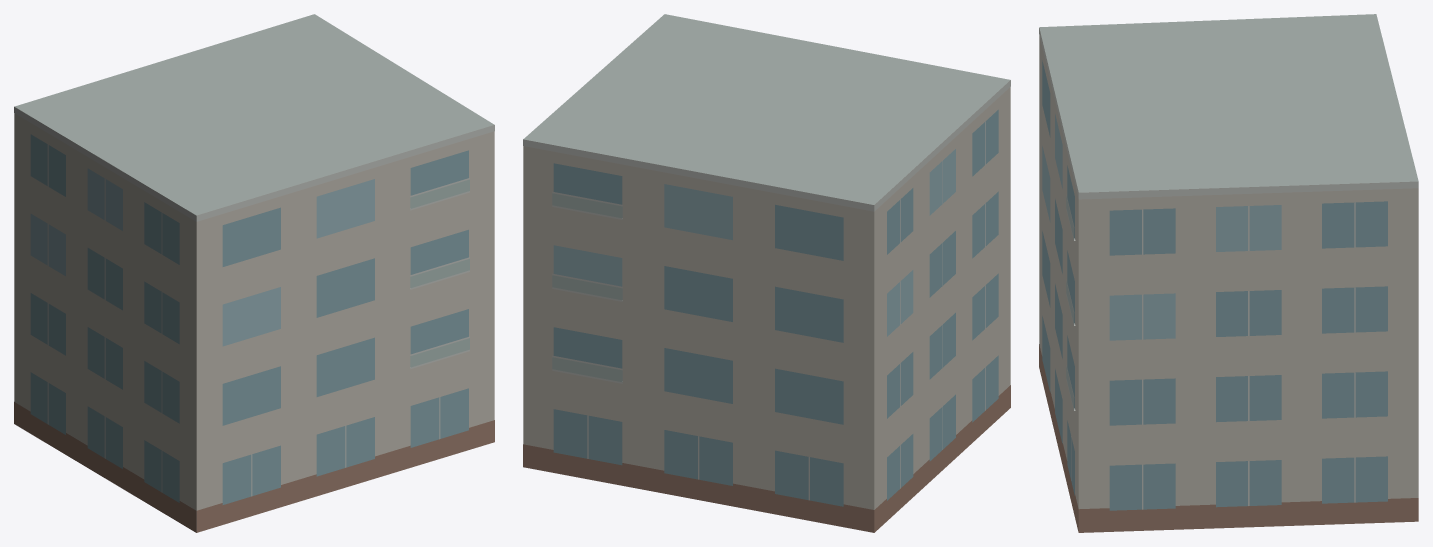
File: survey-upis-32663338.glb
The picture shows the model from 3 angles, left to right: view 1: azimuth 30°, elevation 25°; view 2: azimuth 150°, elevation 25°; view 3: azimuth 270°, elevation 25°; orthographic projection. The views are drawn at different scales.
Parts seen in each view (by area): view 1: survey-upis-32663338.tmp; view 2: survey-upis-32663338.tmp; view 3: survey-upis-32663338.tmp.
Part boxes in pixels (x1=…): survey-upis-32663338.tmp: x1=14, y1=14, x2=494, y2=532; survey-upis-32663338.tmp: x1=523, y1=14, x2=1010, y2=532; survey-upis-32663338.tmp: x1=1039, y1=14, x2=1418, y2=532.
Size of the model in its own units: 13.76 by 12.2 by 12.35.
